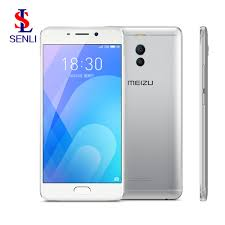meizu: (37, 23, 126, 202), (121, 21, 185, 200)
